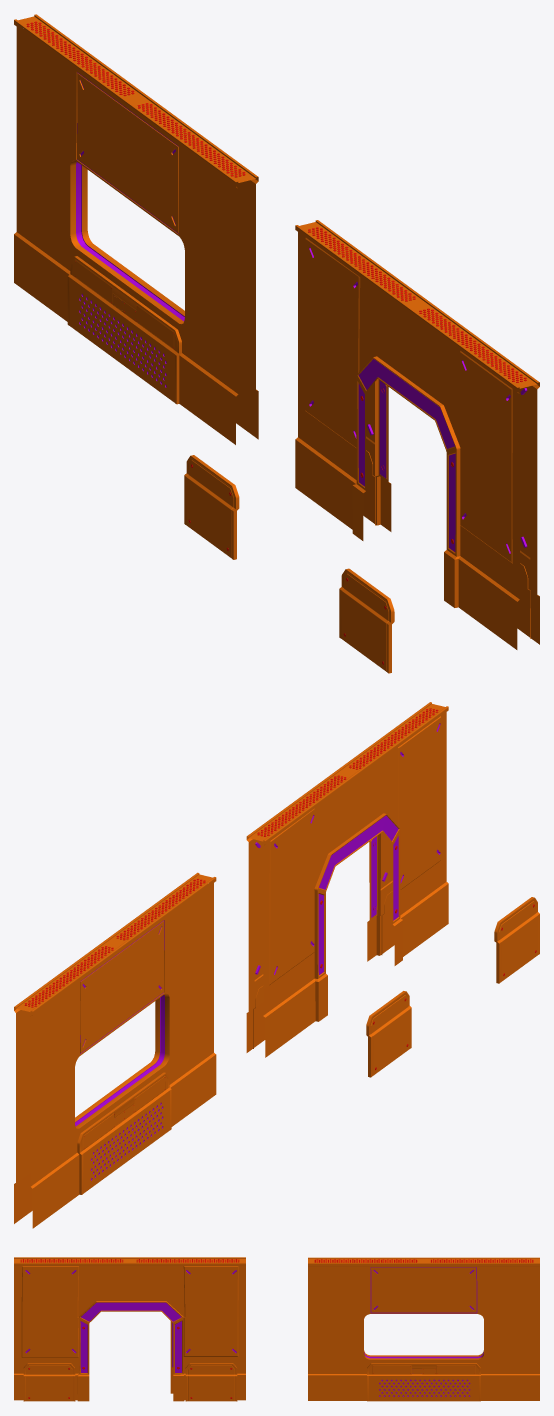
Rendered from Window_DF_High.FBX.
3 renders of one model, top to bottom at view 1: azimuth 30°, elevation 25°; view 2: azimuth 150°, elevation 25°; view 3: azimuth 270°, elevation 25°, orthographic. The views are drawn at different scales.
Visible parts, largest first — view 1: Wall_Doorframe_High_EXP, Wall_Window_High_EXP; view 2: Wall_Doorframe_High_EXP, Wall_Window_High_EXP; view 3: Wall_Window_High_EXP, Wall_Doorframe_High_EXP.
Part boxes in pixels (x1,y1,x2,y2): Wall_Doorframe_High_EXP: (184, 220, 539, 673); Wall_Window_High_EXP: (14, 14, 258, 444); Wall_Doorframe_High_EXP: (246, 702, 539, 1077); Wall_Window_High_EXP: (14, 872, 216, 1228); Wall_Window_High_EXP: (308, 1257, 539, 1401); Wall_Doorframe_High_EXP: (14, 1257, 245, 1401).
Size of the model in its own units: 75.07 by 129 by 446.
